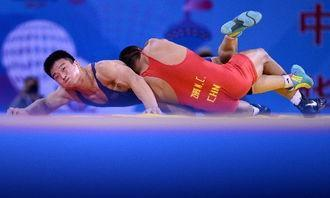Fall-Detected: (129, 15, 328, 119)
